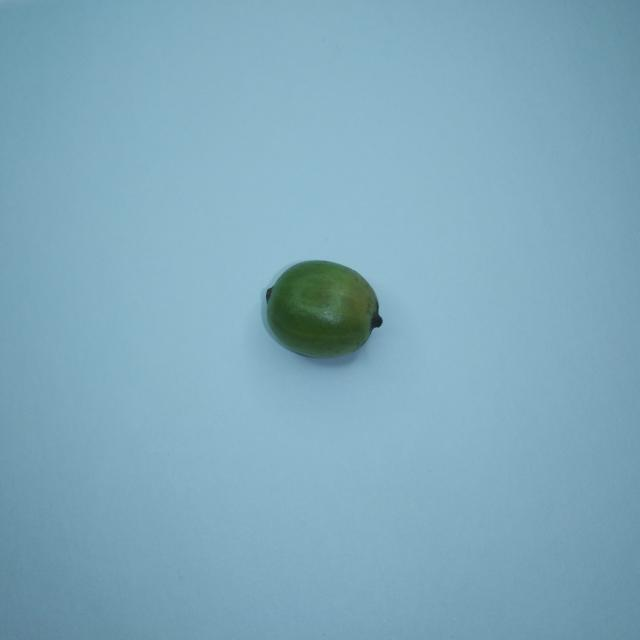Sano: (265, 260, 382, 357)
